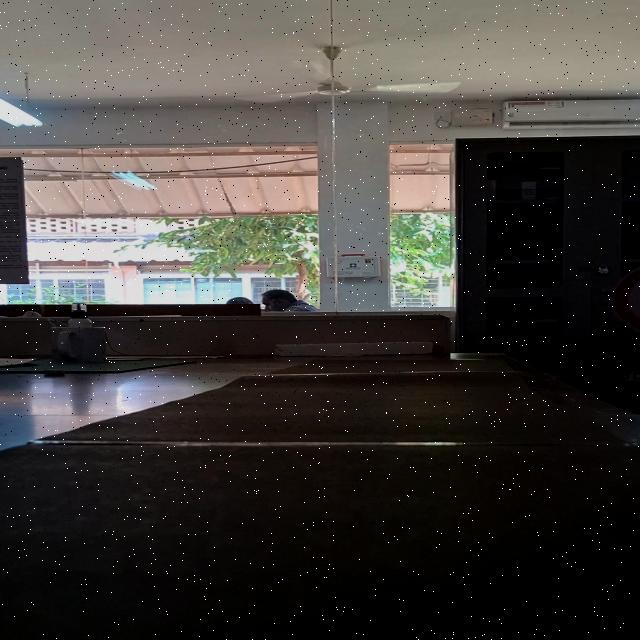Speed60: (604, 256, 640, 342)
